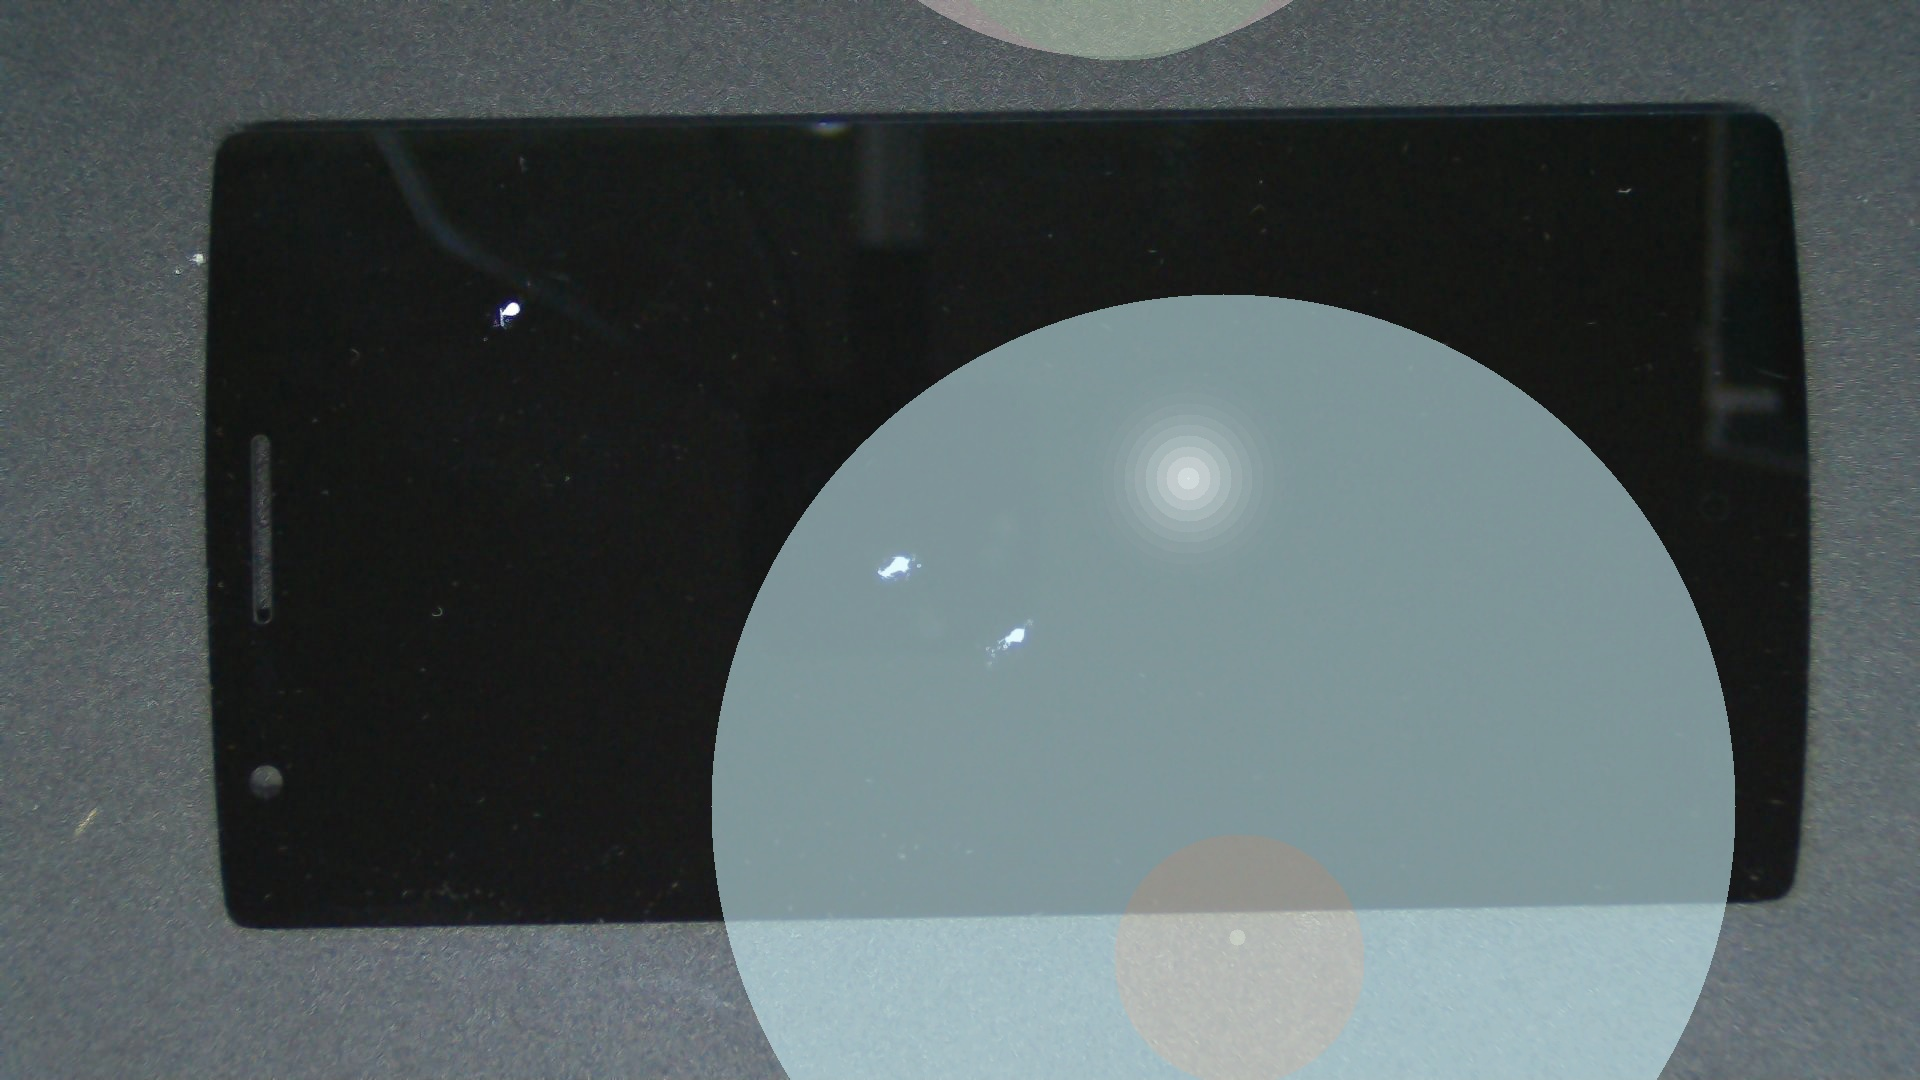oil: (514, 309, 1542, 926), (456, 276, 1367, 828), (256, 149, 764, 452)
